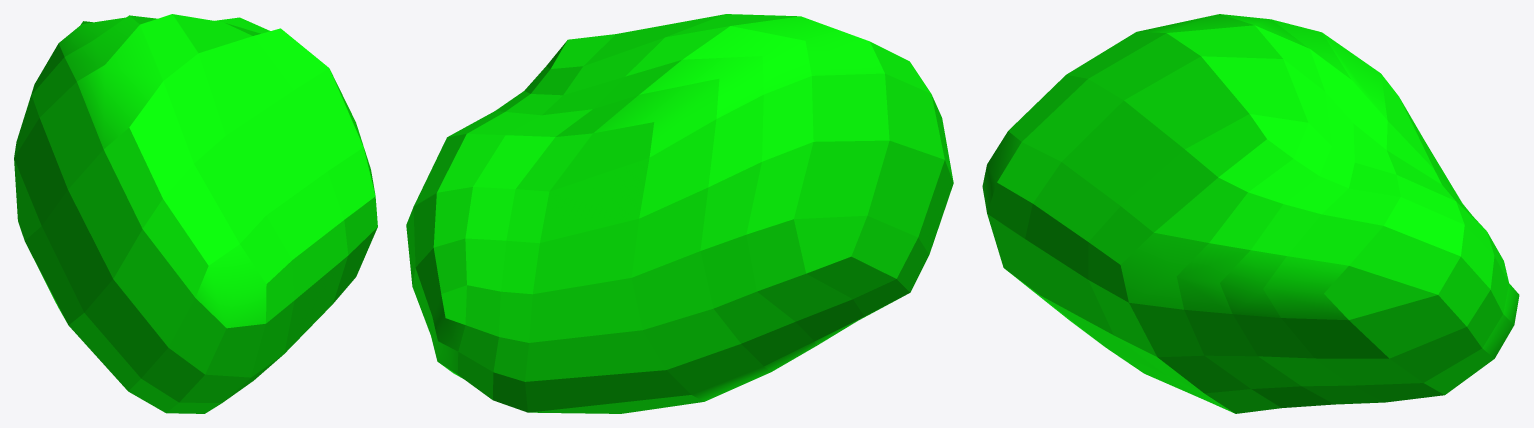
The model's file is ROCK_2.fbx.
3 views of the same model, side by side, from view 1: azimuth 30°, elevation 25°; view 2: azimuth 150°, elevation 25°; view 3: azimuth 270°, elevation 25° (orthographic). The views are drawn at different scales.
Visible parts, largest first — view 1: ROCK_1; view 2: ROCK_1; view 3: ROCK_1.
Boxes of the visible parts, x1,y1,x2,y2 form: ROCK_1: (14,14,377,413); ROCK_1: (406,14,953,413); ROCK_1: (982,14,1519,413).
Size of the model in its own units: 49.79 by 46.67 by 68.82.
